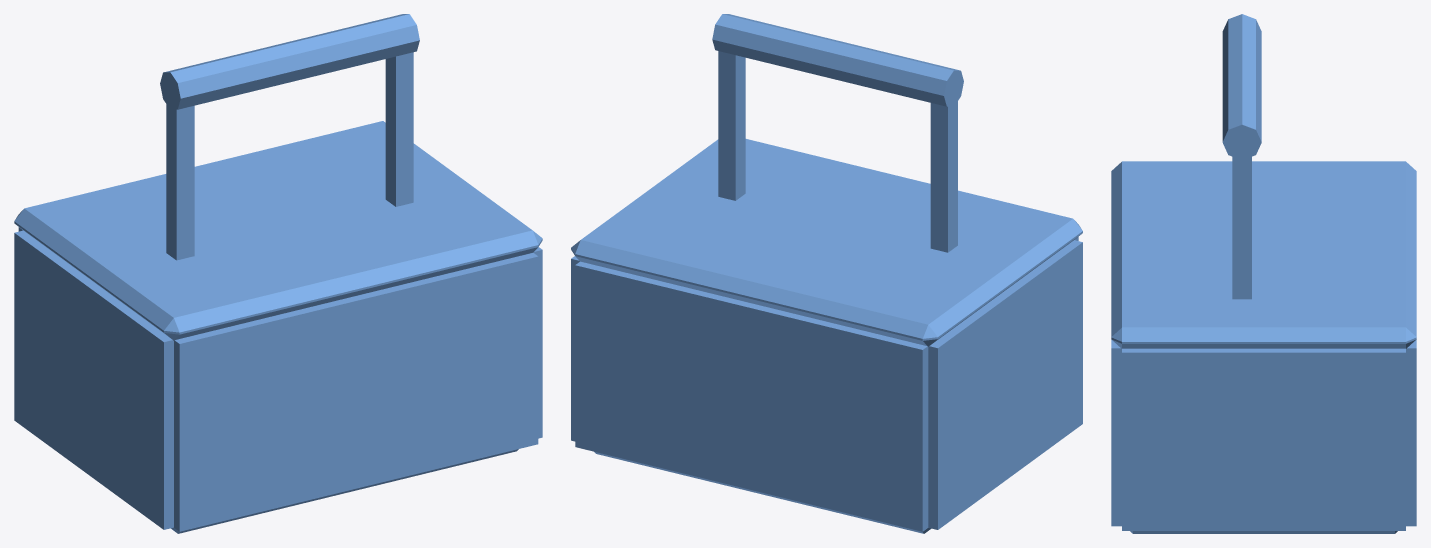
The model's file is Cesta_Mano.fbx.
3 views of the same model, side by side, from view 1: azimuth 30°, elevation 25°; view 2: azimuth 150°, elevation 25°; view 3: azimuth 270°, elevation 25° (orthographic). The views are drawn at different scales.
Parts seen in each view (by area): view 1: Cesta_Mano | Pared cesta.002, Cesta_Mano | Borde cesta mano, Cesta_Mano | Pared cesta, Cesta_Mano | Asa cesta, Cesta_Mano | Asa soporte, Cesta_Mano | Asa soporte.001, Cesta_Mano | Pared cesta.001, Cesta_Mano | Fondo cesta mano; view 2: Cesta_Mano | Pared cesta.003, Cesta_Mano | Borde cesta mano, Cesta_Mano | Pared cesta, Cesta_Mano | Asa cesta, Cesta_Mano | Asa soporte, Cesta_Mano | Asa soporte.001, Cesta_Mano | Pared cesta.001, Cesta_Mano | Fondo cesta mano; view 3: Cesta_Mano | Borde cesta mano, Cesta_Mano | Pared cesta.001, Cesta_Mano | Asa cesta, Cesta_Mano | Asa soporte.001, Cesta_Mano | Pared cesta.002, Cesta_Mano | Pared cesta.003, Cesta_Mano | Fondo cesta mano.
Boxes of the visible parts, bbox=[...] form: Cesta_Mano | Pared cesta.002: bbox=[174, 253, 538, 531]; Cesta_Mano | Borde cesta mano: bbox=[14, 121, 542, 340]; Cesta_Mano | Pared cesta: bbox=[14, 230, 173, 529]; Cesta_Mano | Asa cesta: bbox=[160, 14, 419, 109]; Cesta_Mano | Asa soporte: bbox=[166, 104, 194, 260]; Cesta_Mano | Asa soporte.001: bbox=[385, 52, 413, 206]; Cesta_Mano | Pared cesta.001: bbox=[533, 247, 542, 438]; Cesta_Mano | Fondo cesta mano: bbox=[171, 449, 518, 533]; Cesta_Mano | Pared cesta.003: bbox=[575, 261, 928, 531]; Cesta_Mano | Borde cesta mano: bbox=[571, 139, 1082, 346]; Cesta_Mano | Pared cesta: bbox=[928, 240, 1082, 529]; Cesta_Mano | Asa cesta: bbox=[712, 14, 963, 106]; Cesta_Mano | Asa soporte: bbox=[930, 101, 957, 252]; Cesta_Mano | Asa soporte.001: bbox=[718, 51, 745, 200]; Cesta_Mano | Pared cesta.001: bbox=[571, 256, 579, 441]; Cesta_Mano | Fondo cesta mano: bbox=[594, 451, 930, 533]; Cesta_Mano | Borde cesta mano: bbox=[1111, 161, 1416, 348]; Cesta_Mano | Pared cesta.001: bbox=[1122, 348, 1405, 530]; Cesta_Mano | Asa cesta: bbox=[1222, 14, 1261, 160]; Cesta_Mano | Asa soporte.001: bbox=[1232, 156, 1251, 299]; Cesta_Mano | Pared cesta.002: bbox=[1111, 340, 1121, 526]; Cesta_Mano | Pared cesta.003: bbox=[1406, 340, 1416, 526]; Cesta_Mano | Fondo cesta mano: bbox=[1130, 531, 1397, 533].
Bounding box in the file's own units: 0.38 × 0.3905 × 0.28.
